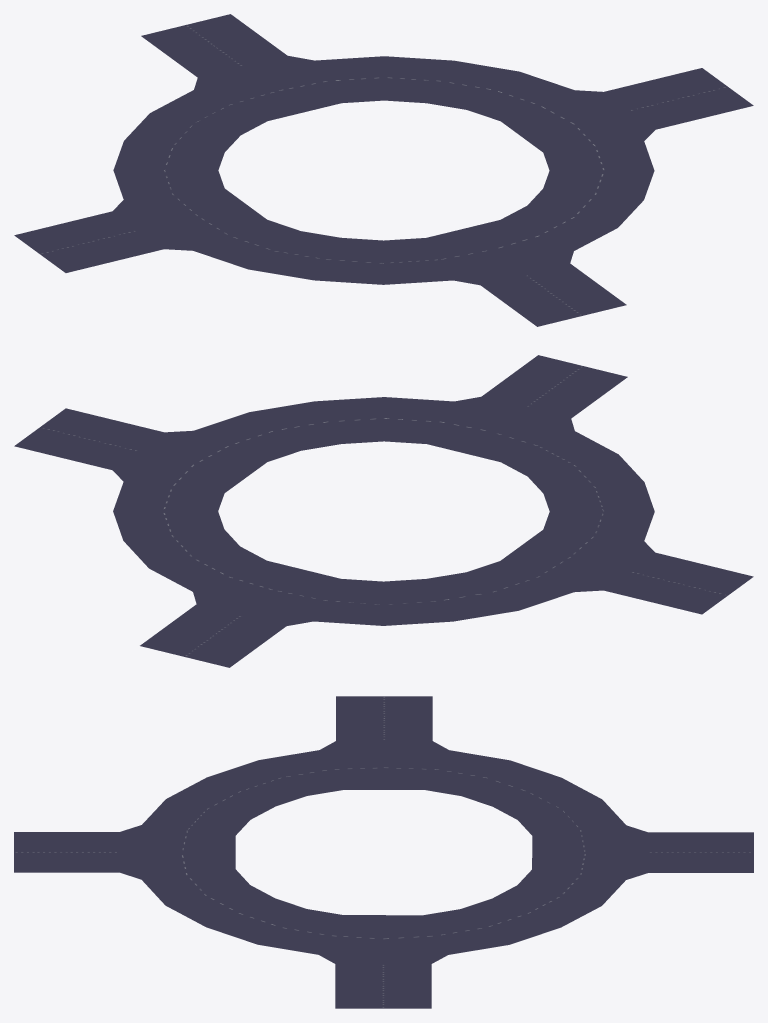
3 views of the same model, one above another, from view 1: azimuth 30°, elevation 25°; view 2: azimuth 150°, elevation 25°; view 3: azimuth 270°, elevation 25° (orthographic). The views are drawn at different scales.
Visible parts, largest first — view 1: Circle_1.001; view 2: Circle_1.001; view 3: Circle_1.001.
Boxes of the visible parts, <box> form: Circle_1.001: <box>14,14,753,326</box>; Circle_1.001: <box>14,355,753,667</box>; Circle_1.001: <box>14,696,753,1008</box>.
Size of the model in its own units: 152 by 0.00804 by 152.
